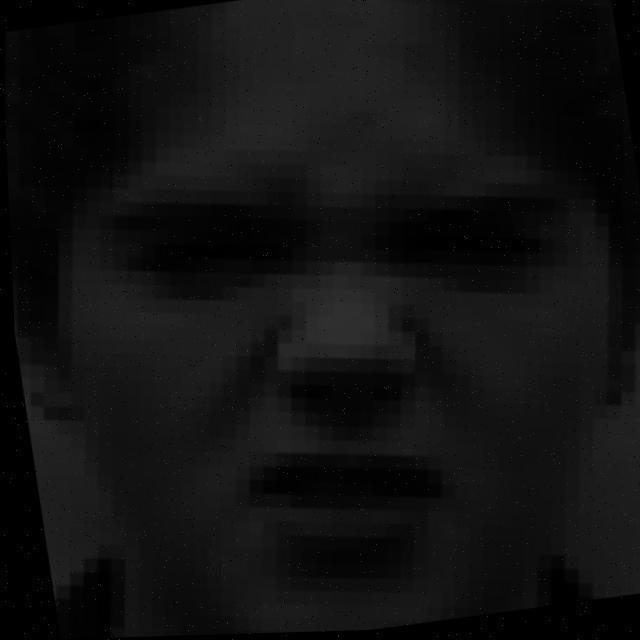Disgust: (37, 69, 640, 640)
